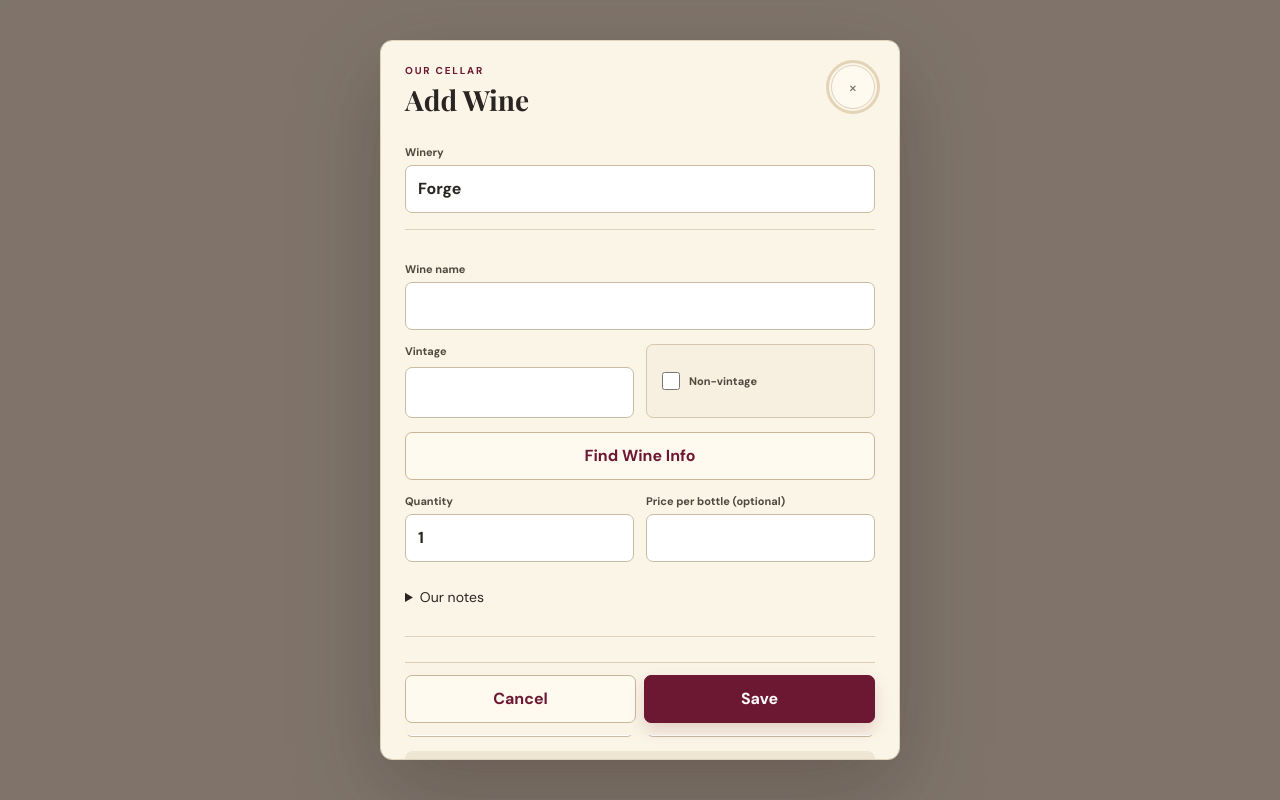
Test case: keeps quantity, storage, cancel and Save usable during lookup; late result cannot mutate saved wine
This screenshot has width=1280, height=800.
Type "Riesling" into the field labelled "Wine name" at (640, 306), box [405,282,875,330]
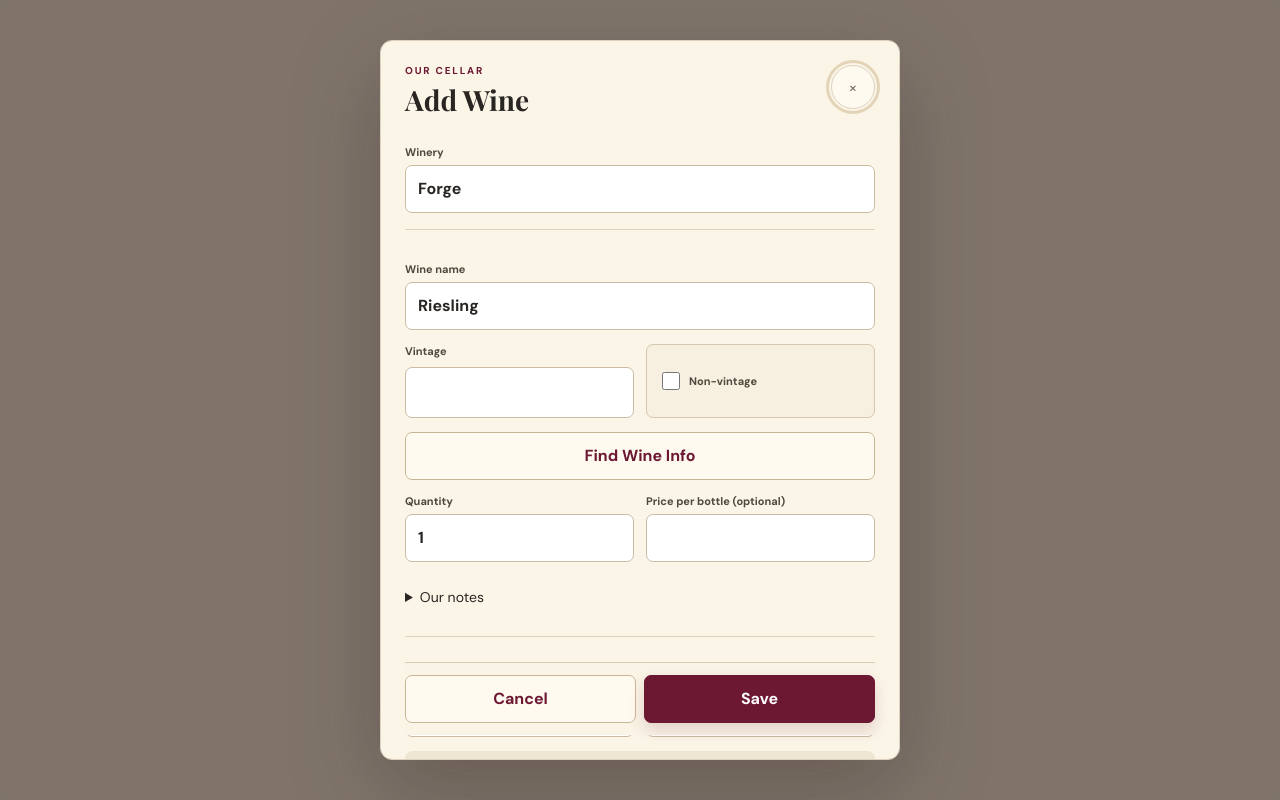
Type "2023" into the number field labelled "Vintage" at (520, 392), box [405,367,634,418]
Wait 1000 ms
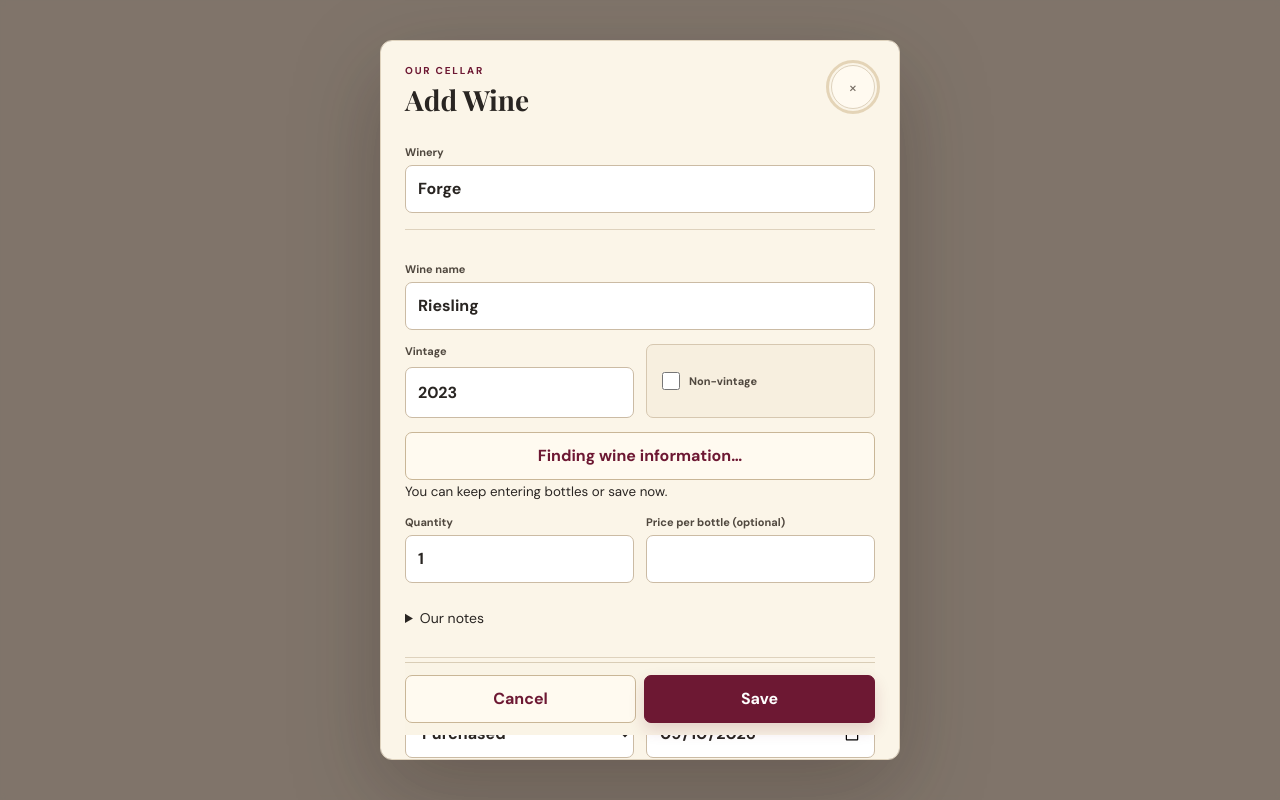
Expected: the button "Save" is enabled, [644,675,875,723]
Expected: the button "Cancel" is enabled, [405,675,636,723]
Replace the text in the number field labelled "Quantity" with "3" at (520, 559), box [405,535,634,583]
(page scrolled)
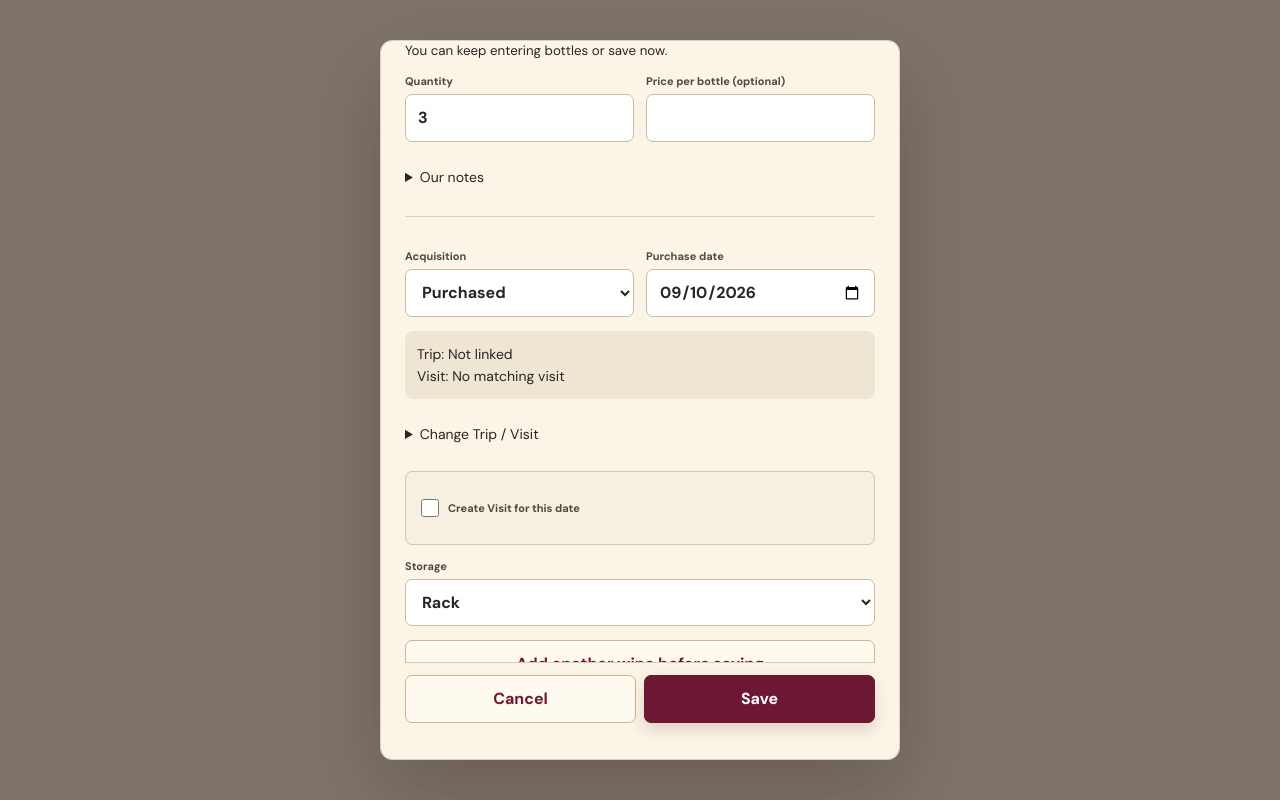
Submit the form
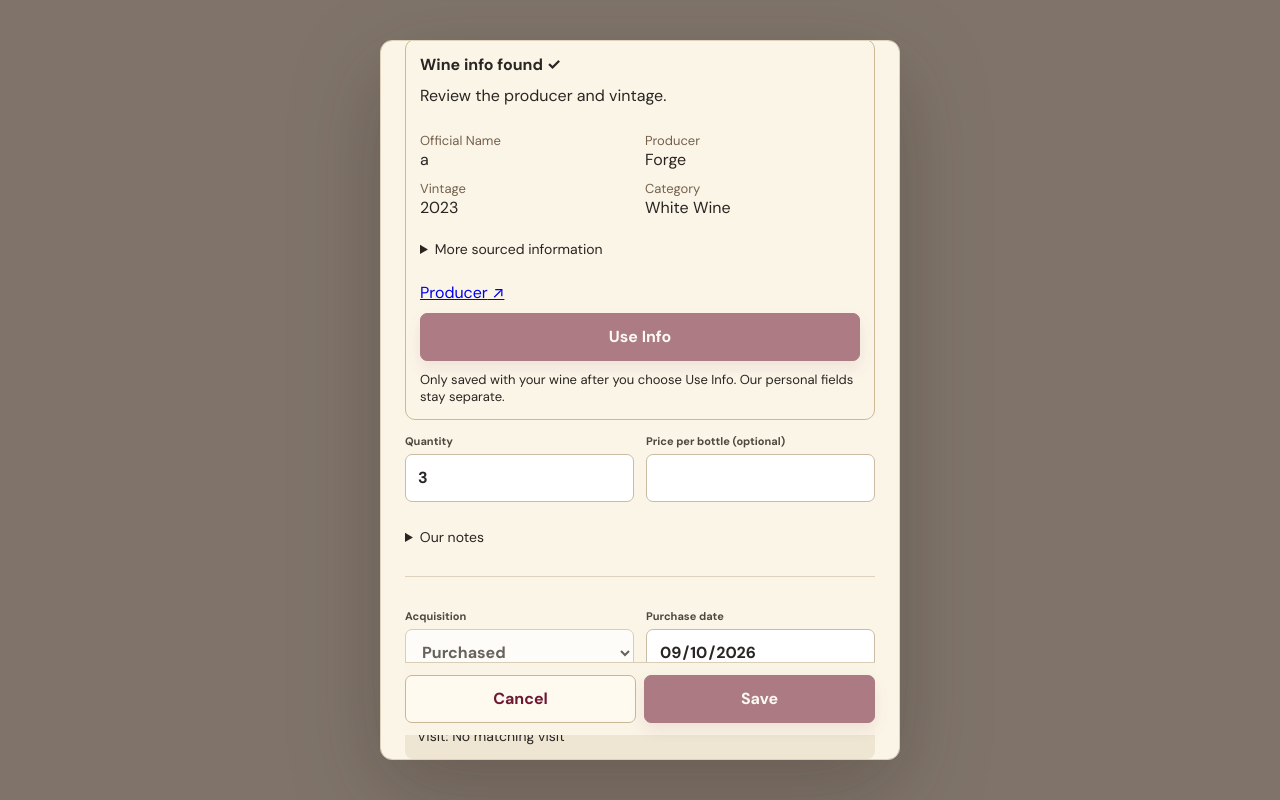
Expected: the button "Use Info" is disabled, [420,313,860,361]
